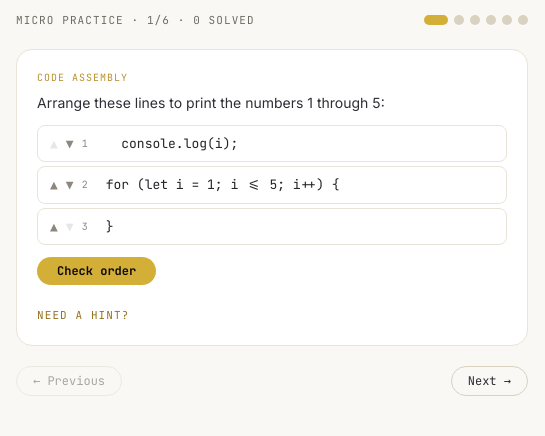
Test: quick practice › has a Previous button that goes back, and a Next button that goes on
expect the button "← Previous" is disabled: met, box x1=16 y1=366 x2=122 y2=396
expect the text "micro practice · 1/6 · 0 solved" is shown: met, box x1=16 y1=12 x2=255 y2=28
Click the button "Next →" at (489, 381), box x1=451 y1=366 x2=528 y2=396
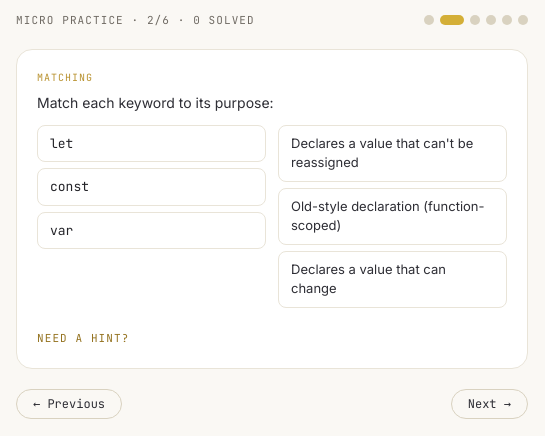
expect the text "micro practice · 2/6 · 0 solved" is shown: met, box x1=16 y1=12 x2=255 y2=28
expect the text "Match each keyword to its purpose:" is shown: met, box x1=37 y1=94 x2=274 y2=110
Click the button "← Previous" at (69, 404), box x1=16 y1=388 x2=122 y2=418
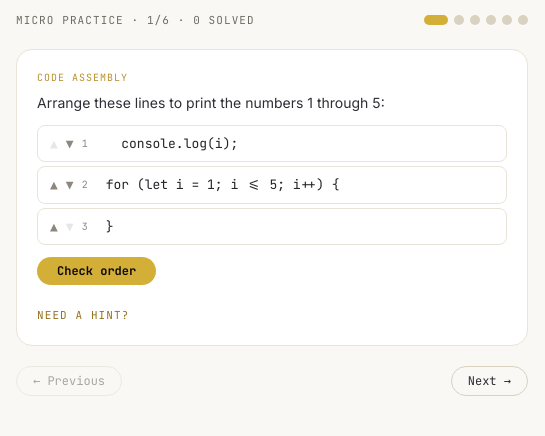
expect the text "micro practice · 1/6 · 0 solved" is shown: met, box x1=16 y1=12 x2=255 y2=28
